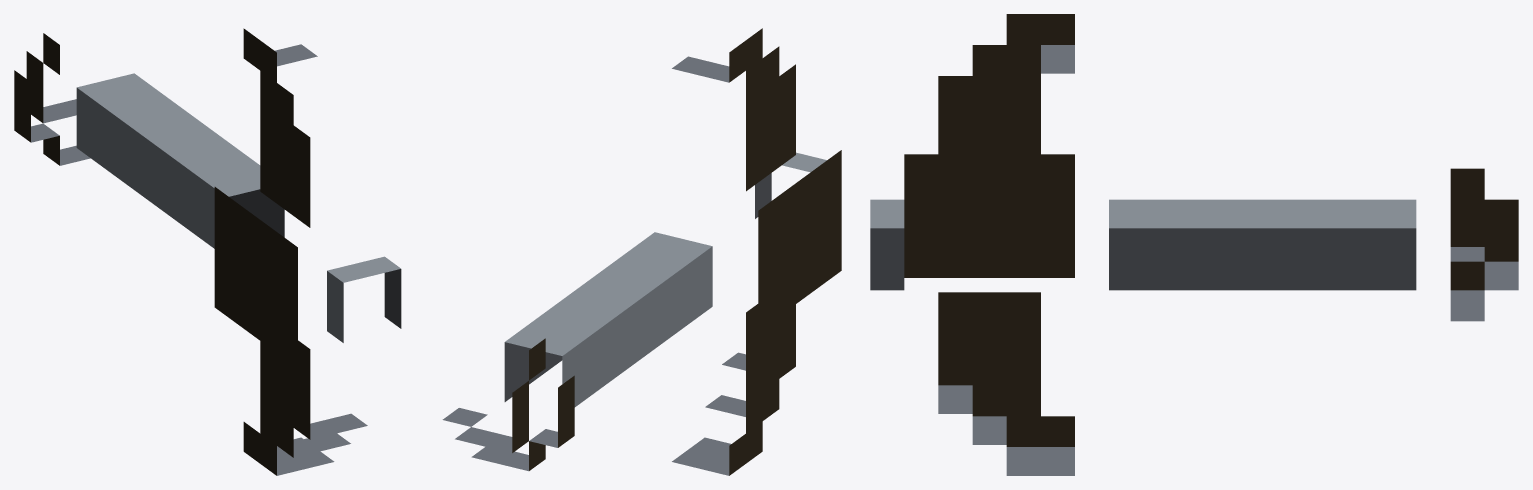
Rendered from mining_pick.obj.
3 renders of one model, left to right at view 1: azimuth 30°, elevation 25°; view 2: azimuth 150°, elevation 25°; view 3: azimuth 270°, elevation 25°, orthographic. The views are drawn at different scales.
Visible parts, largest first — view 1: Matrix_29; view 2: Matrix_29; view 3: Matrix_29.
Boxes of the visible parts, x1,y1,x2,y2 form: Matrix_29: (14, 28, 401, 475); Matrix_29: (442, 28, 841, 475); Matrix_29: (870, 14, 1518, 475).
Size of the model in its own units: 4 by 14 by 19.
1 material, 1 textured.
